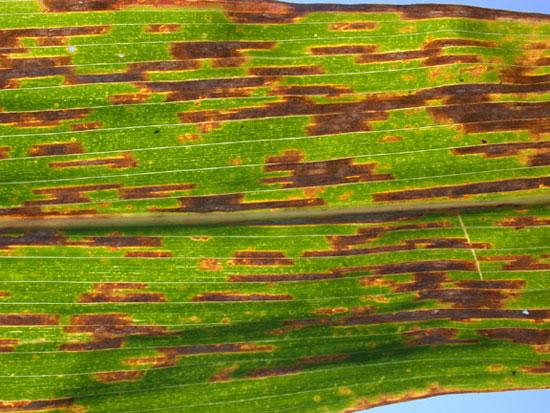Corn Gray leaf spot: (1, 1, 550, 413)
